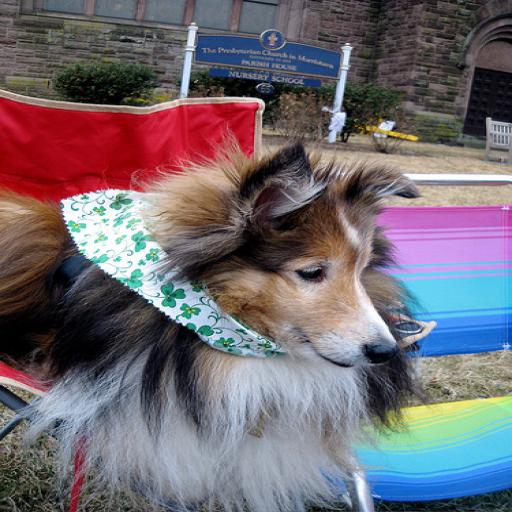dog_face: (165, 143, 422, 373)
